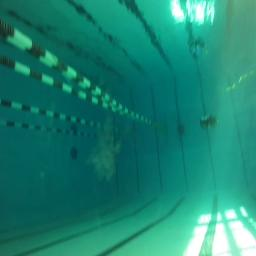front: (199, 112, 219, 130)
